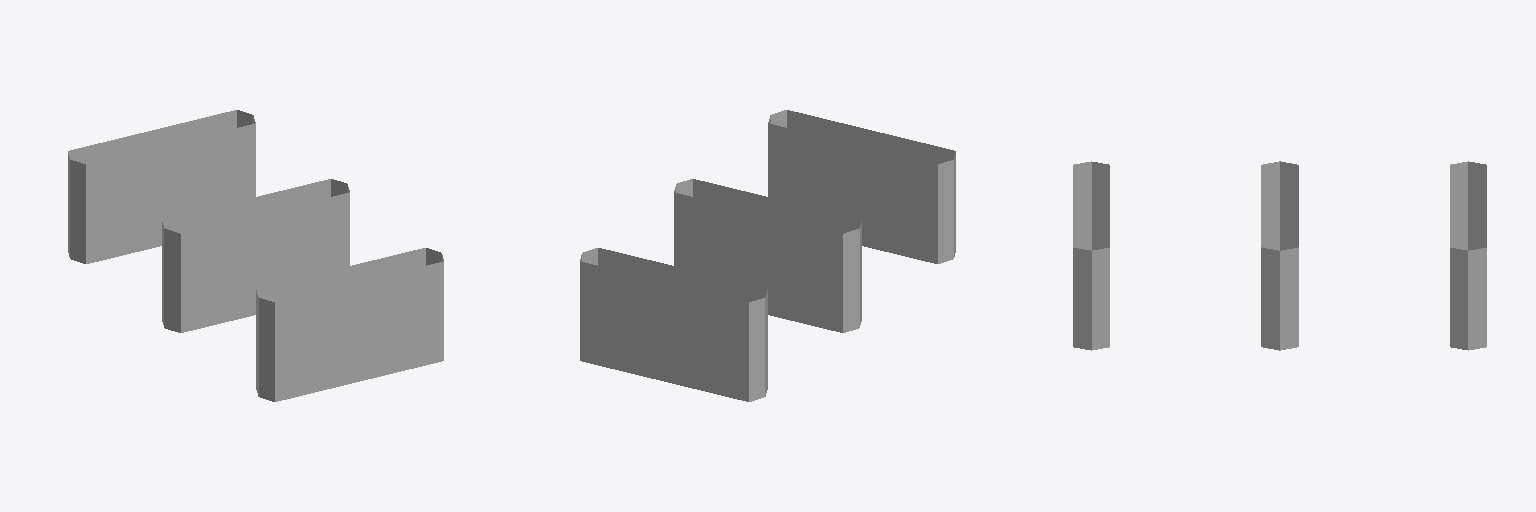
File: c_divider2.obj
3 renders of one model, left to right at view 1: azimuth 30°, elevation 25°; view 2: azimuth 150°, elevation 25°; view 3: azimuth 270°, elevation 25°, orthographic.
Parts seen in each view (by area): view 1: Cube.012_Cube.027; view 2: Cube.012_Cube.027; view 3: Cube.012_Cube.027.
Part boxes in pixels (x1,y1,x2,y2): Cube.012_Cube.027: (68, 110, 443, 401); Cube.012_Cube.027: (580, 110, 955, 401); Cube.012_Cube.027: (1073, 161, 1486, 350).
Bounding box in the file's own units: 3.84 × 2 × 7.52.